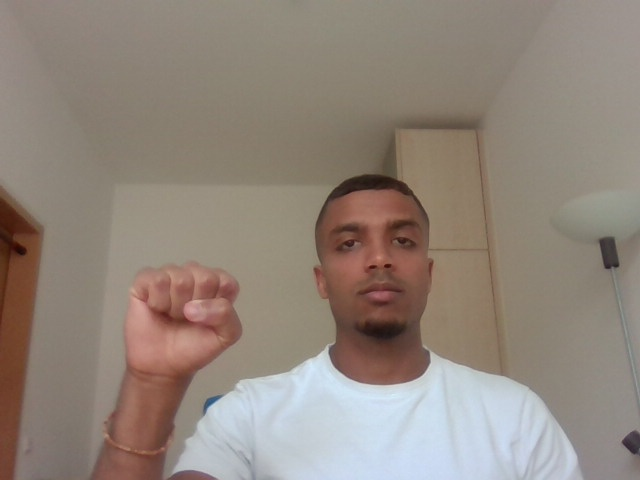maybe: (119, 252, 259, 387)
